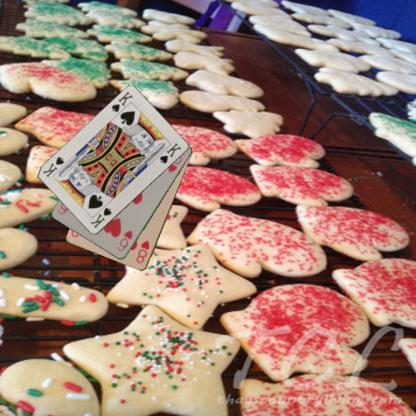6h: (113, 228, 134, 252)
8h: (133, 238, 151, 265)
Ks: (109, 89, 134, 114), (88, 205, 112, 230)
